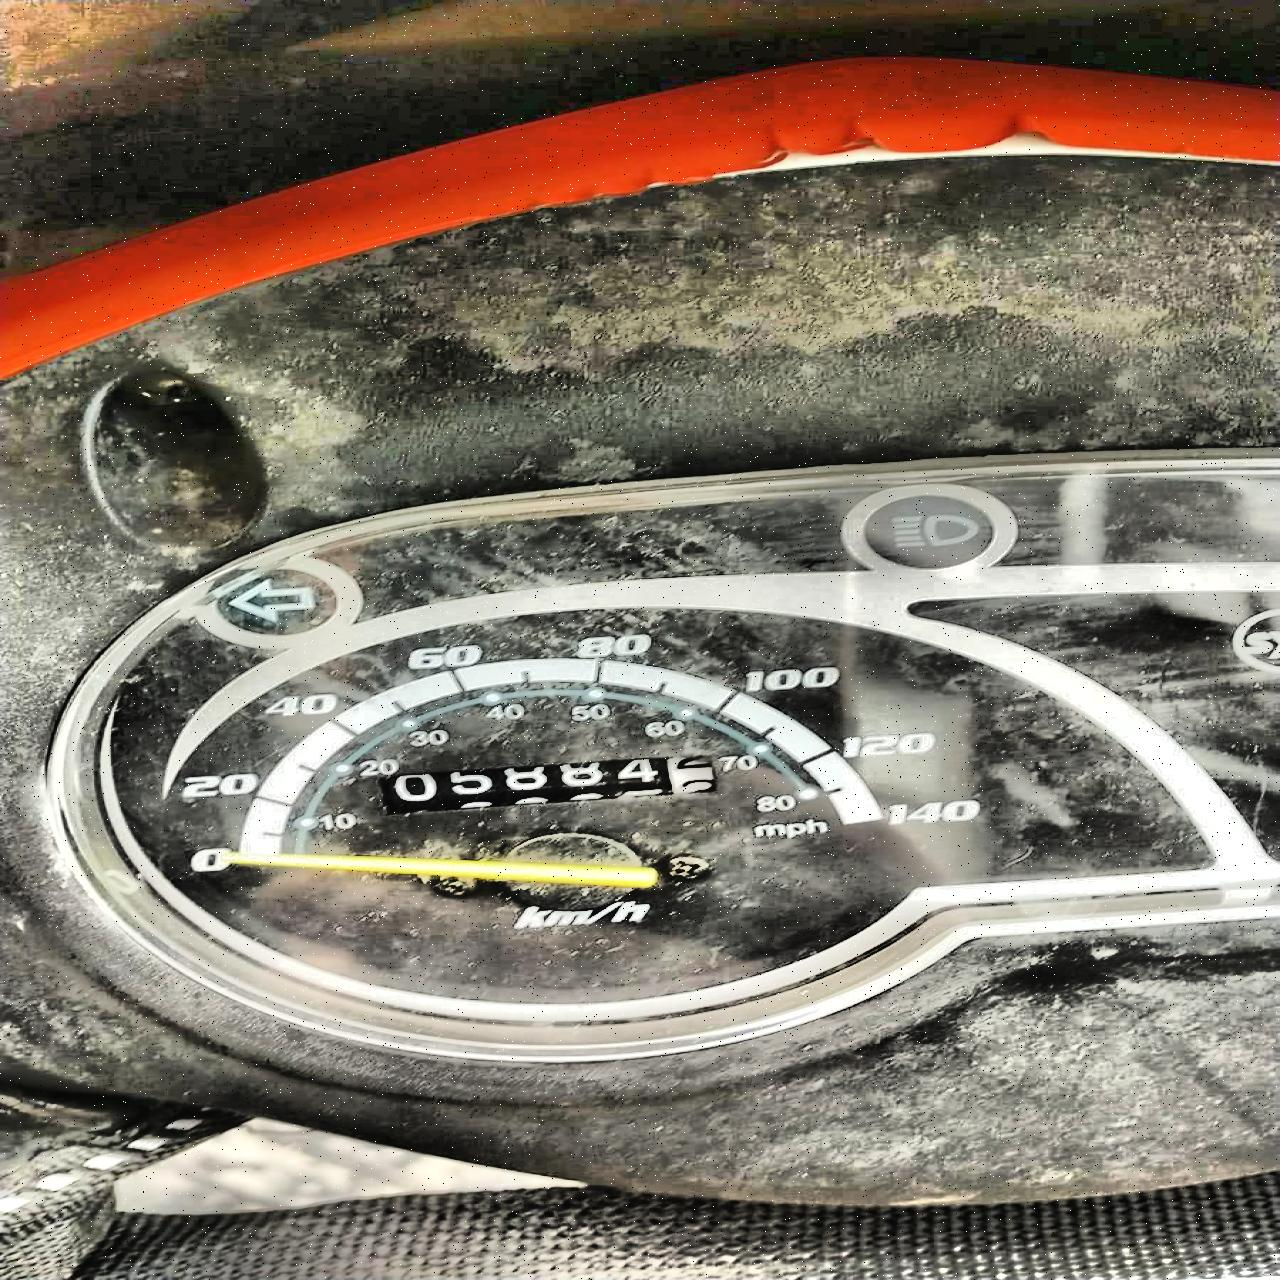0: (393, 771, 437, 802), (377, 758, 399, 774)
2: (673, 744, 710, 769)
4: (615, 756, 658, 782)
5: (447, 764, 491, 795)
8: (556, 756, 601, 787), (501, 760, 545, 790)
odometer: (376, 754, 715, 817)
